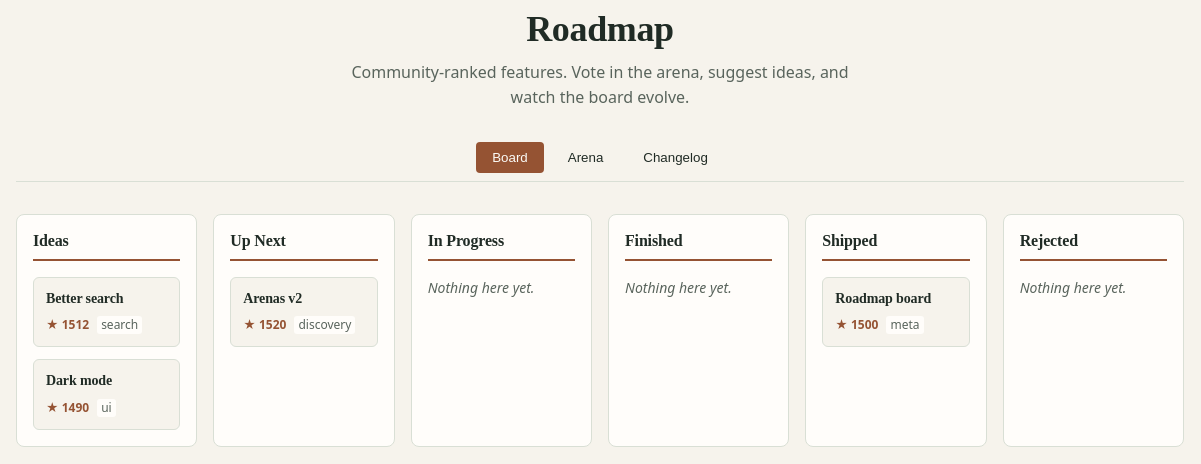
Scenario: Roadmap board page › requires sign-in for the arena tab
Expected: the heading "Better search" is shown, [46,291,123,306]
Click the button "Arena". click: (586, 157)
box: [552,142,619,173]
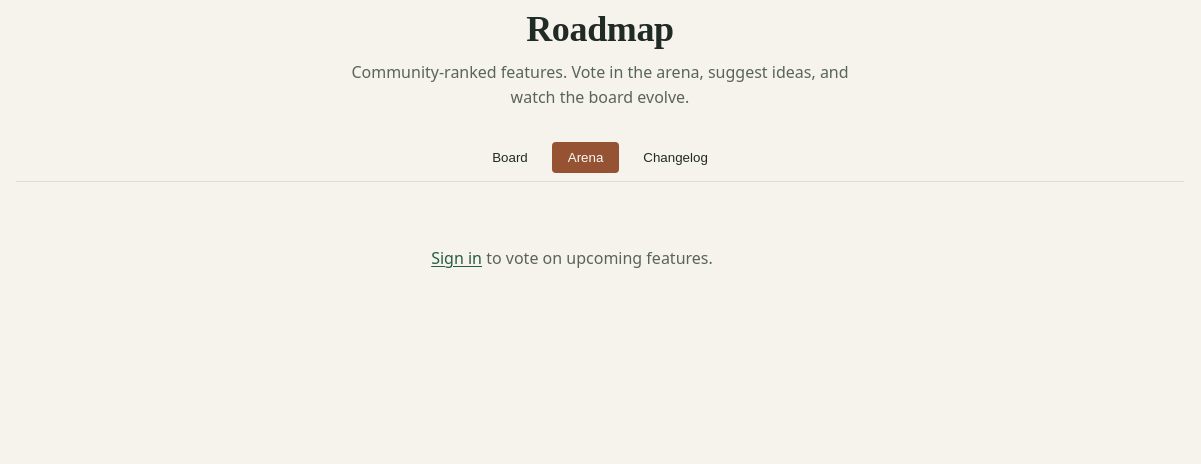
Now the text "to vote on upcoming features." is shown, box [482,247,713,269]
